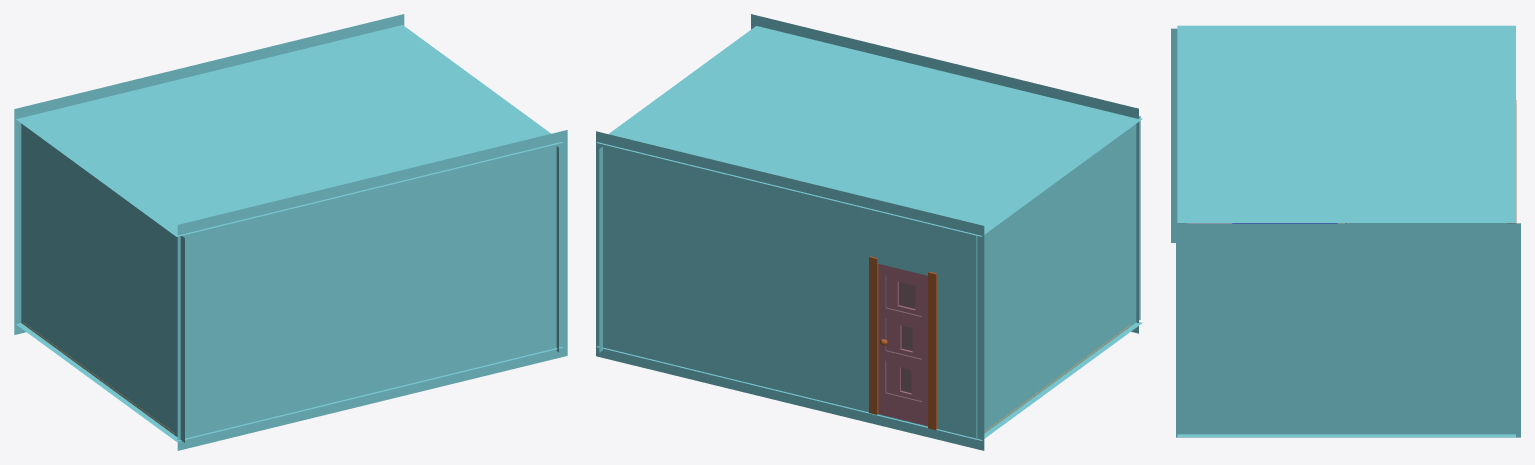
File: bedroom.fbx
The picture shows the model from 3 angles, left to right: view 1: azimuth 30°, elevation 25°; view 2: azimuth 150°, elevation 25°; view 3: azimuth 270°, elevation 25°; orthographic projection. The views are drawn at different scales.
Parts seen in each view (by area): view 1: room; view 2: room, door; view 3: room.
Part boxes in pixels (x1,y1,x2,y2): room: [14, 14, 567, 450]; room: [596, 14, 1142, 450]; door: [869, 256, 937, 430]; room: [1171, 25, 1520, 437].
Bounding box in the file's own units: 603 × 331 × 444.
